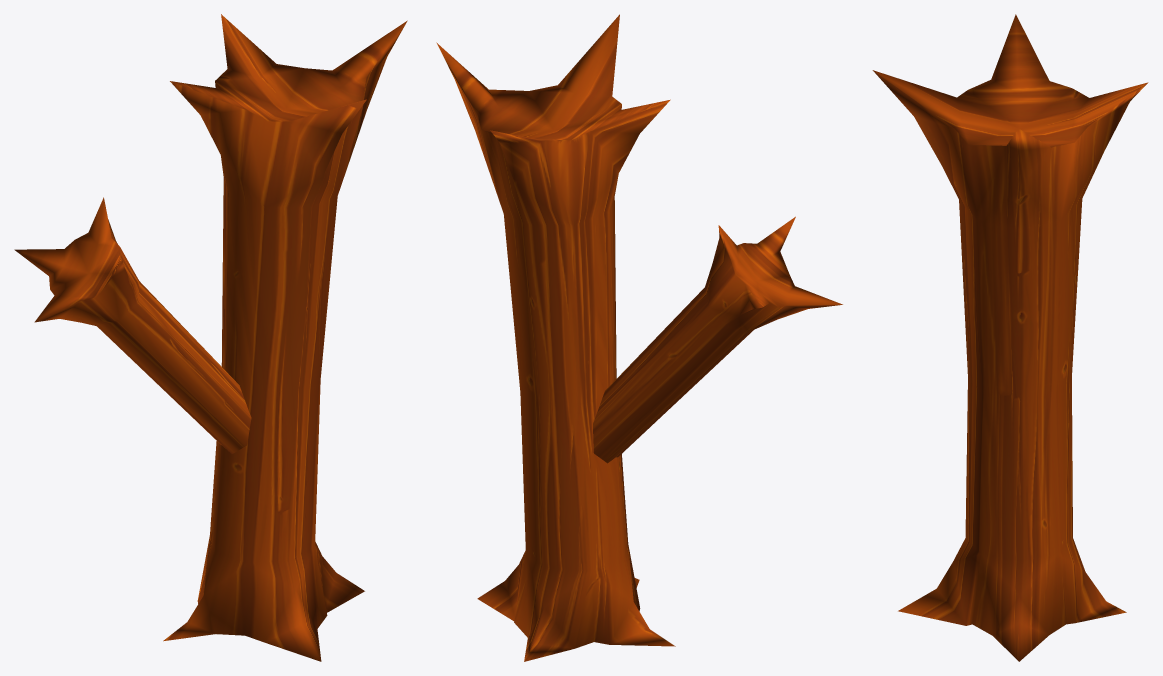
The model's file is fbx_item_89_tree_trunk.fbx.
The picture shows the model from 3 angles, left to right: view 1: azimuth 30°, elevation 25°; view 2: azimuth 150°, elevation 25°; view 3: azimuth 270°, elevation 25°; orthographic projection. The views are drawn at different scales.
Visible parts, largest first — view 1: item_89_tree_trunk; view 2: item_89_tree_trunk; view 3: item_89_tree_trunk.
Part boxes in pixels (box(x1,y1,x2,y2)): item_89_tree_trunk: box(14, 14, 407, 661); item_89_tree_trunk: box(436, 14, 842, 661); item_89_tree_trunk: box(872, 14, 1148, 661).
Bounding box in the file's own units: 14.24 × 19.38 × 8.71.
